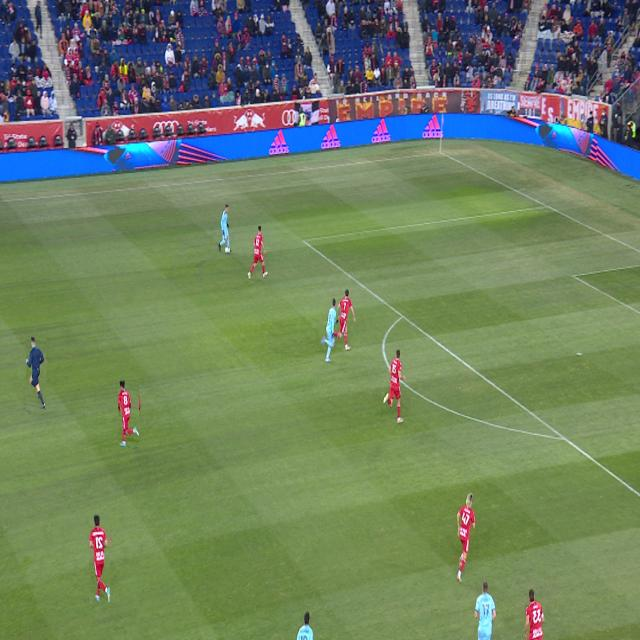football: (226, 247, 229, 254)
player: (90, 515, 110, 602), (456, 493, 475, 582), (383, 350, 405, 423), (474, 580, 496, 640), (119, 381, 139, 447), (334, 289, 355, 350), (321, 298, 338, 362), (524, 590, 545, 639), (247, 226, 266, 279), (218, 204, 229, 251), (297, 611, 313, 640), (230, 249, 232, 252)
referee: (26, 336, 46, 410)
